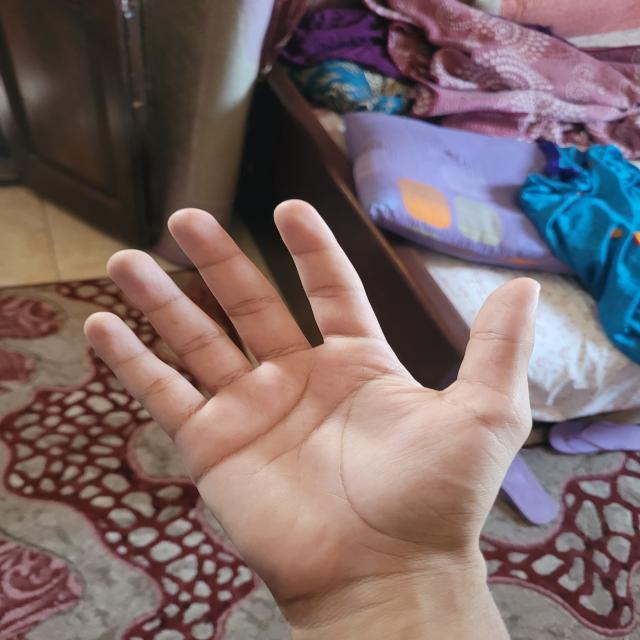Open Hand: (80, 196, 544, 598)
